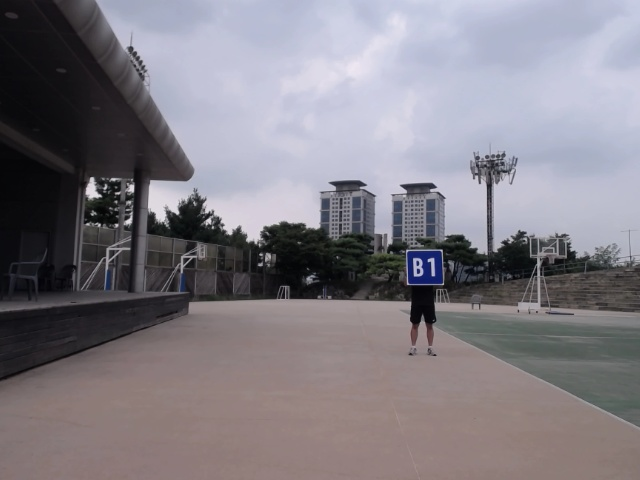delivery_b1: (406, 249, 444, 285)
